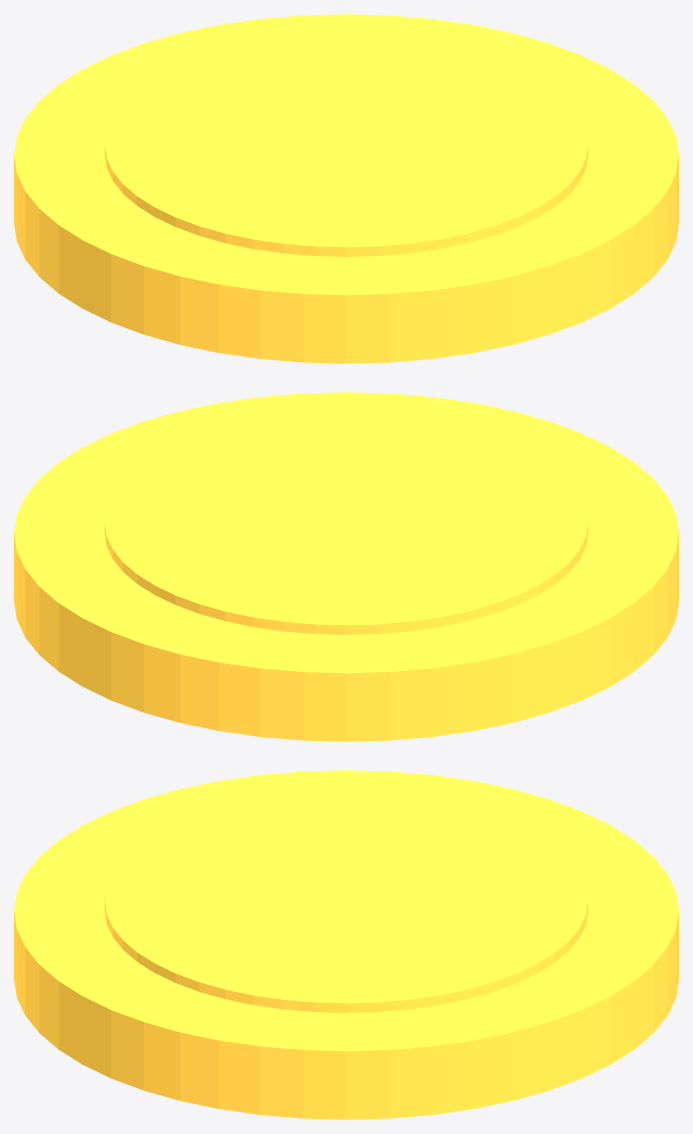
Rendered from coin.glb.
3 views of the same model, one above another, from view 1: azimuth 30°, elevation 25°; view 2: azimuth 150°, elevation 25°; view 3: azimuth 270°, elevation 25° (orthographic).
Parts seen in each view (by area): view 1: coin; view 2: coin; view 3: coin.
Part boxes in pixels (x1,y1,x2,y2): coin: [14, 14, 678, 363]; coin: [14, 392, 678, 741]; coin: [14, 770, 678, 1119].
Bounding box in the file's own units: 0.044 × 0.0057 × 0.044.
